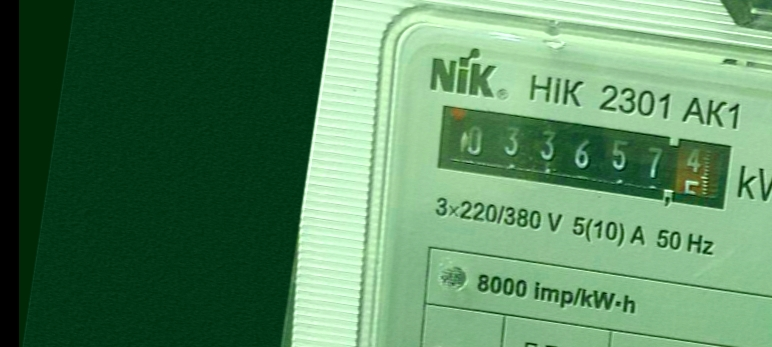0: (462, 122, 489, 162)
3: (501, 124, 525, 161), (536, 128, 559, 165)
4: (683, 145, 707, 178)
5: (606, 137, 633, 176)
6: (570, 136, 595, 174)
7: (642, 144, 665, 182)
screen: (421, 95, 743, 223)
